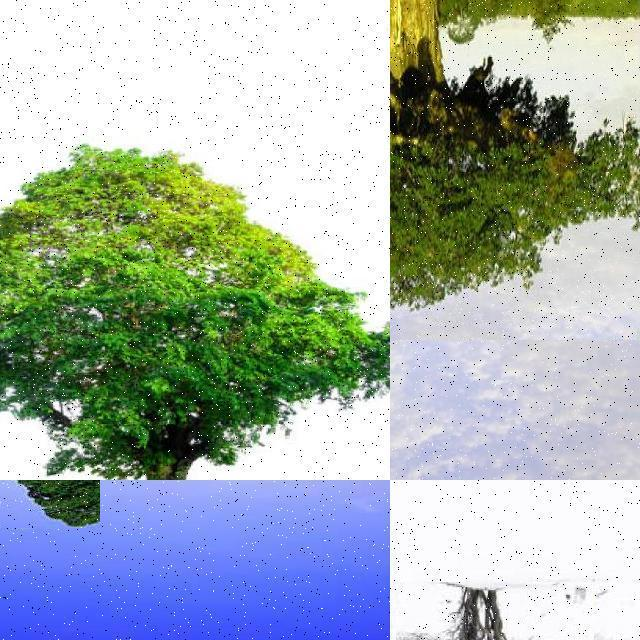tree: (0, 134, 390, 480), (390, 0, 640, 340), (396, 582, 594, 640), (0, 480, 100, 528), (444, 0, 500, 68)
